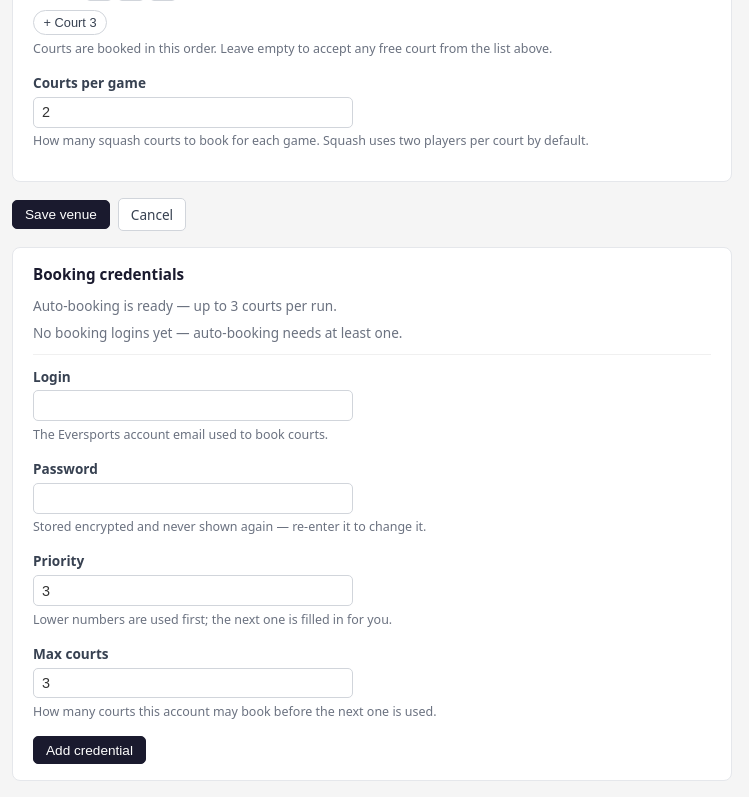
Scenario: VenueFormPage — edit venue › reports a duplicate credential login
This screenshot has width=749, height=797.
(page scrolled)
Type "a@b.c" into the field labelled "Login" at (193, 406), box [33,390,353,421]
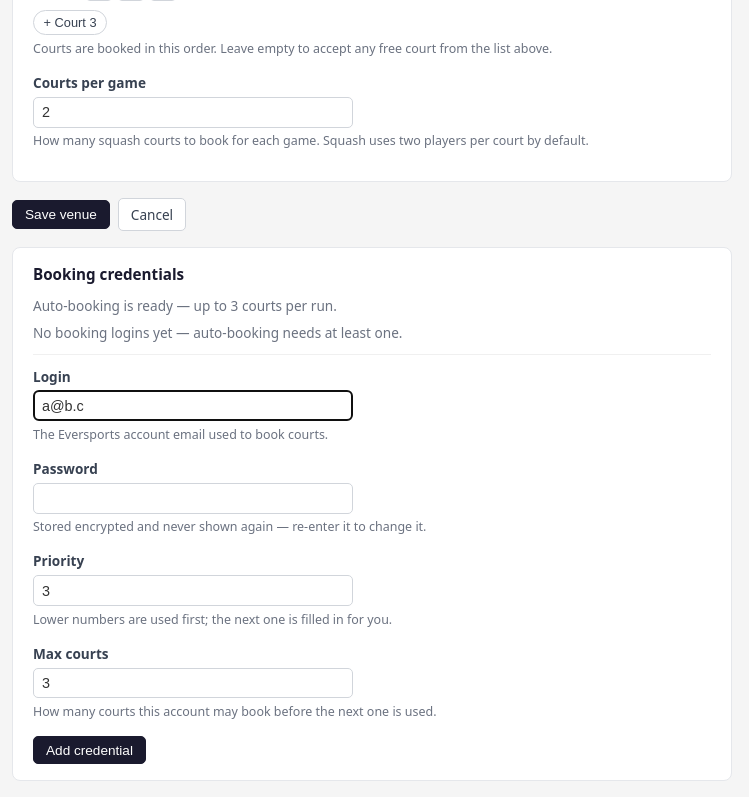
Type "secret" into the password field labelled "Password" at (193, 498), box [33,483,353,514]
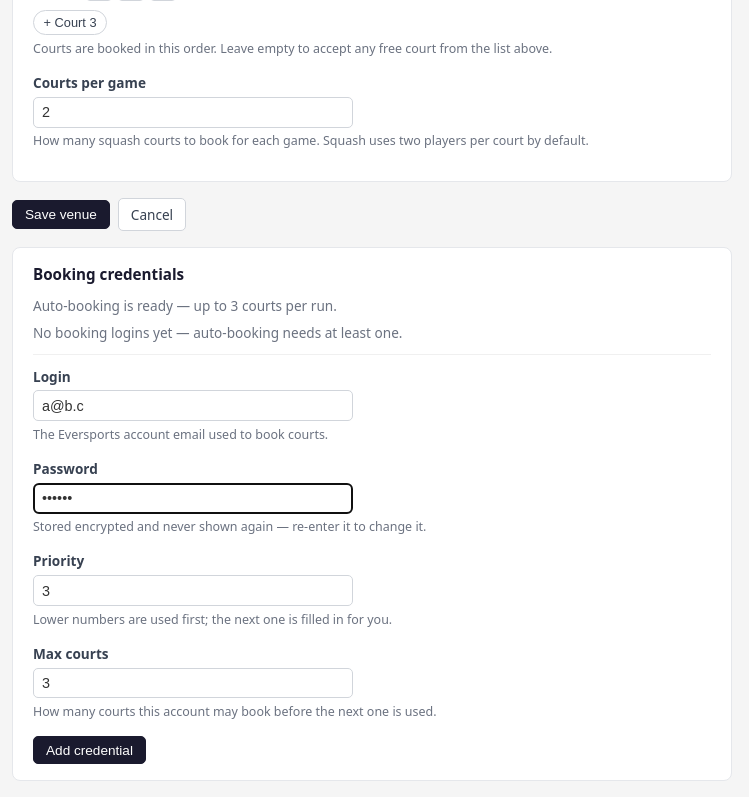
Click the button "Add credential" at (89, 750), box [33,736,146,764]
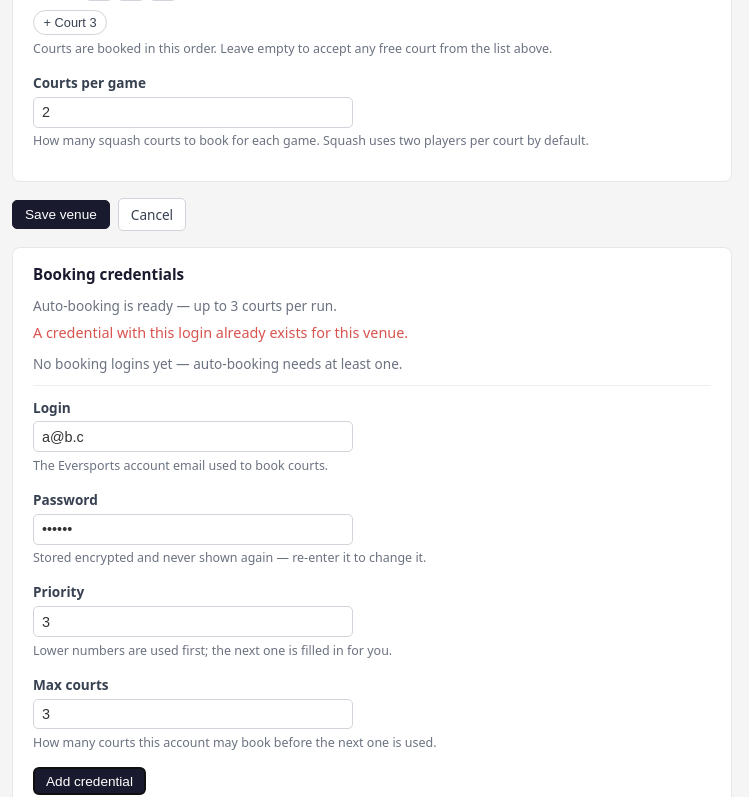
Expected: the text "A credential with this login already exists for this venue." is shown, [33,323,408,342]
